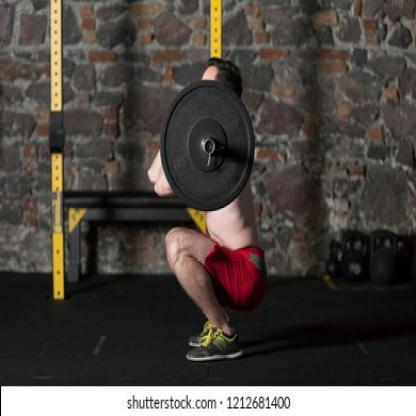Barbell: (204, 138, 217, 157)
